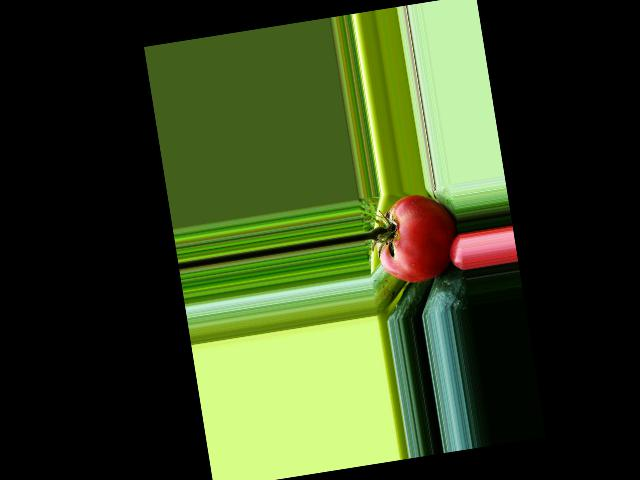tomato: (370, 189, 464, 287)
